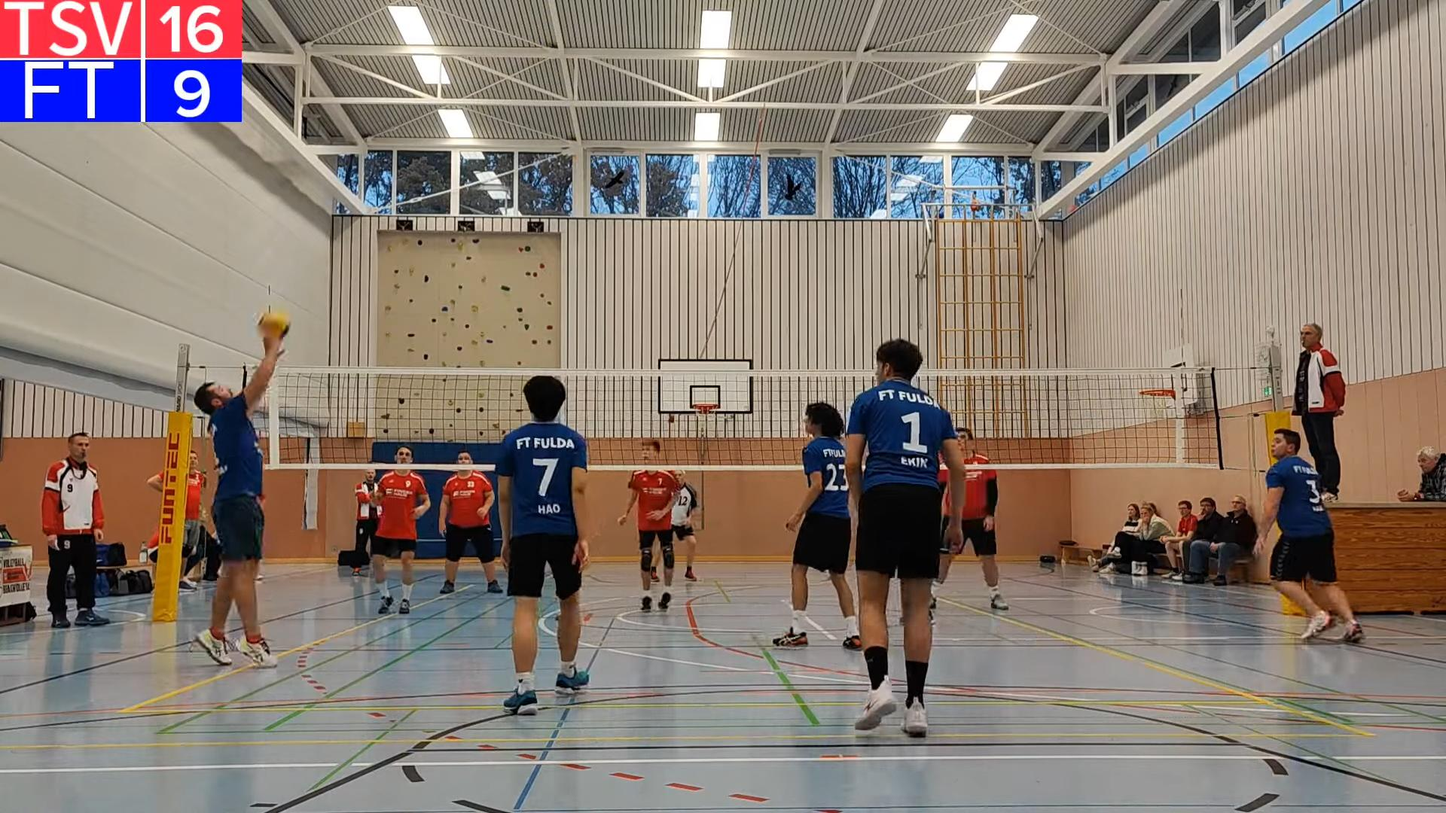Player: (846, 339, 965, 736), (496, 376, 591, 714), (194, 331, 282, 667), (1254, 429, 1363, 642), (773, 402, 861, 650), (371, 446, 429, 614), (956, 427, 1008, 610), (618, 467, 679, 611), (438, 468, 502, 593), (672, 470, 701, 580)
Set: (184, 320, 289, 670)
ball: (254, 310, 291, 335)
